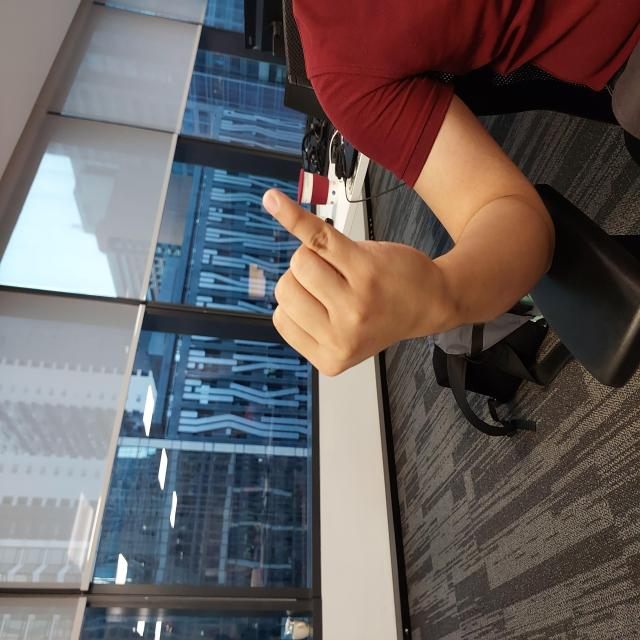J: (262, 260, 454, 450)
